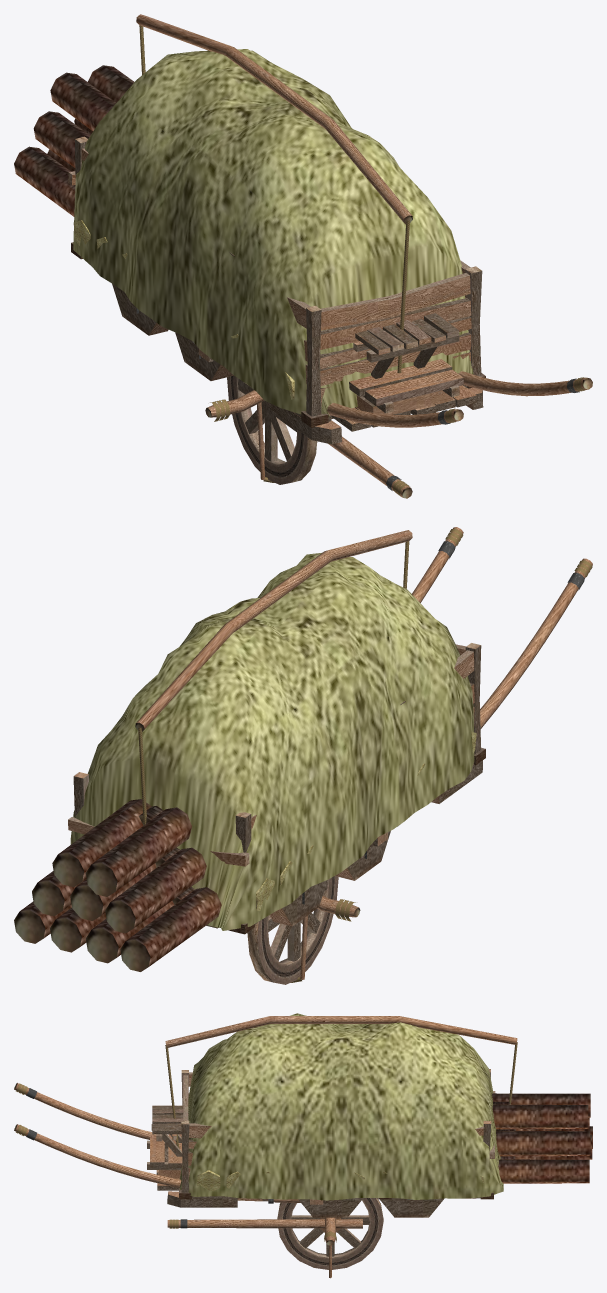
Rendered from wagons.glb.
3 views of the same model, one above another, from view 1: azimuth 30°, elevation 25°; view 2: azimuth 150°, elevation 25°; view 3: azimuth 270°, elevation 25° (orthographic). The views are drawn at different scales.
Visible parts, largest first — view 1: wagon4-hay, wagon4-body, wagon4-logs, wagon-wheel, wagon2-body, wagon2-yoke, wagon4-pole, wagon4-front; view 2: wagon4-hay, wagon4-logs, wagon4-body, wagon-wheel, wagon2-body, wagon2-yoke, wagon4-front, wagon4-sheaves; view 3: wagon4-hay, wagon4-logs, wagon4-body, wagon-wheel, wagon2-body, wagon4-pole, wagon4-front, wagon4-sheaves, wagon2-yoke.
Boxes of the visible parts, bbox=[...] form: wagon4-hay: bbox=[73, 14, 473, 418]; wagon4-body: bbox=[68, 136, 485, 444]; wagon4-logs: bbox=[14, 65, 134, 216]; wagon-wheel: bbox=[227, 375, 317, 484]; wagon2-body: bbox=[230, 371, 592, 427]; wagon2-yoke: bbox=[205, 390, 274, 482]; wagon4-pole: bbox=[328, 436, 412, 498]; wagon4-front: bbox=[175, 332, 231, 380]; wagon4-hay: bbox=[70, 530, 474, 930]; wagon4-logs: bbox=[14, 799, 221, 971]; wagon4-body: bbox=[68, 643, 485, 934]; wagon-wheel: bbox=[247, 876, 338, 984]; wagon2-body: bbox=[412, 527, 592, 728]; wagon2-yoke: bbox=[290, 895, 360, 982]; wagon4-front: bbox=[335, 831, 390, 880]; wagon4-sheaves: bbox=[256, 732, 476, 911]; wagon4-hay: bbox=[165, 1013, 517, 1200]; wagon4-logs: bbox=[492, 1093, 592, 1183]; wagon4-body: bbox=[147, 1069, 495, 1217]; wagon-wheel: bbox=[277, 1198, 383, 1269]; wagon2-body: bbox=[14, 1083, 300, 1203]; wagon4-pole: bbox=[167, 1219, 362, 1228]; wagon4-front: bbox=[259, 1198, 362, 1217]; wagon4-sheaves: bbox=[197, 1170, 483, 1191]; wagon2-yoke: bbox=[324, 1217, 336, 1278].
Size of the model in its own units: 1.42 by 2.64 by 5.34.
1 material, 1 textured.
